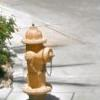Hydrant: (17, 17, 63, 100)
